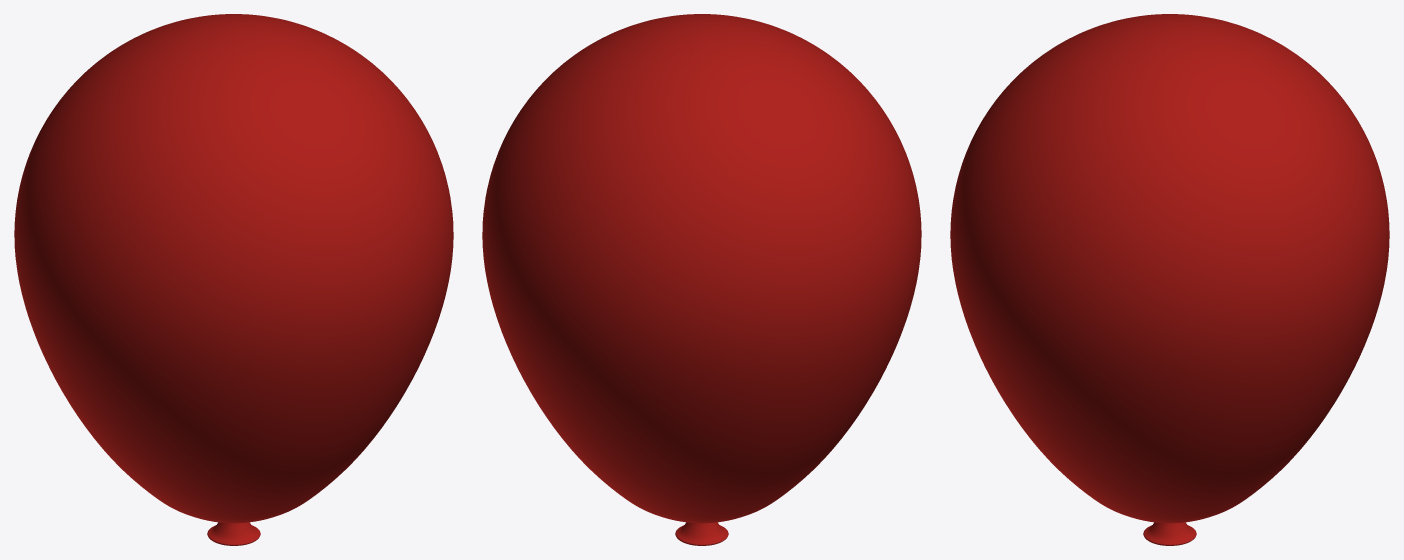
Rendered from balloon.fbx.
The picture shows the model from 3 angles, left to right: view 1: azimuth 30°, elevation 25°; view 2: azimuth 150°, elevation 25°; view 3: azimuth 270°, elevation 25°; orthographic projection.
Parts seen in each view (by area): view 1: Sphere.008; view 2: Sphere.008; view 3: Sphere.008.
Boxes of the visible parts, x1=… form: Sphere.008: x1=14, y1=14, x2=453, y2=545; Sphere.008: x1=482, y1=14, x2=921, y2=545; Sphere.008: x1=950, y1=14, x2=1389, y2=545.
Size of the model in its own units: 1.44 by 1.81 by 1.44.
